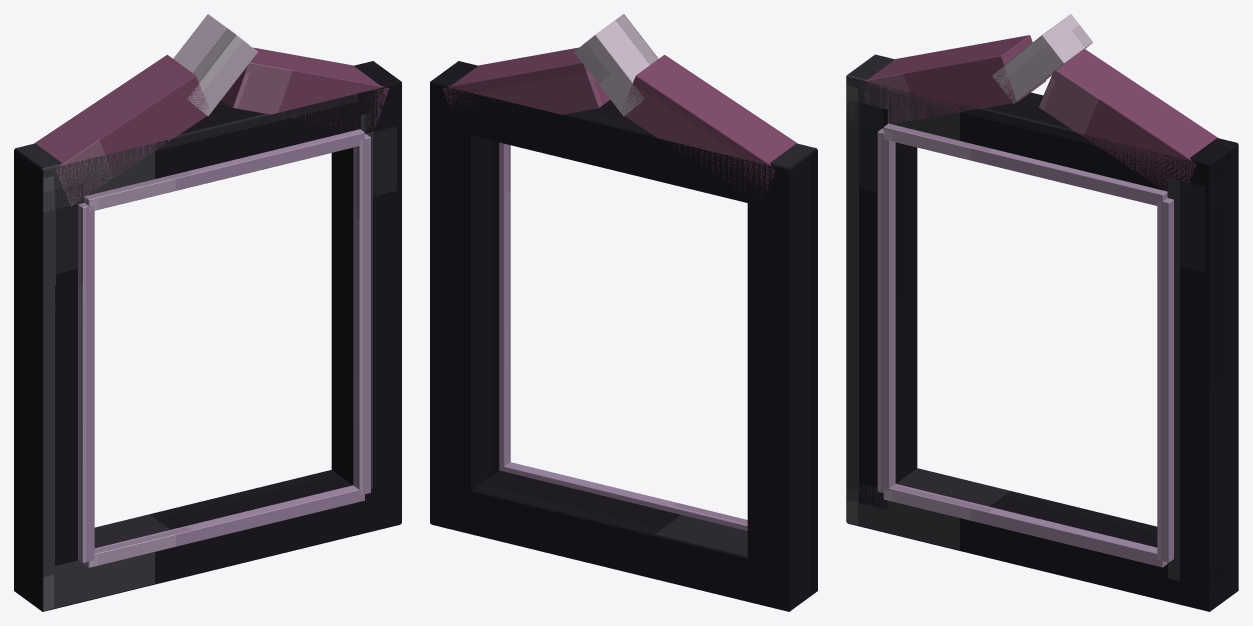
Rendered from gothic_picture_frame_empty.glb.
3 renders of one model, left to right at view 1: azimuth 30°, elevation 25°; view 2: azimuth 150°, elevation 25°; view 3: azimuth 330°, elevation 25°, orthographic.
Visible parts, largest first — view 1: FrameL, FrameBottom, FrameR, FrameTop, GothicShoulderL, GothicShoulderR, InnerTrimR, InnerTrimL, InnerTrimBottom, InnerTrimTop, GothicCrown; view 2: FrameL, FrameR, FrameBottom, FrameTop, GothicShoulderL, GothicShoulderR, GothicCrown, InnerTrimR, InnerTrimBottom; view 3: FrameR, FrameL, FrameBottom, FrameTop, GothicShoulderR, GothicShoulderL, InnerTrimL, InnerTrimR, InnerTrimBottom, InnerTrimTop, GothicCrown.
Part boxes in pixels (left/top/right/bottom): FrameL: left=14, top=173, right=83, bottom=568; FrameBottom: left=14, top=470, right=401, bottom=611; FrameR: left=331, top=114, right=401, bottom=507; FrameTop: left=14, top=61, right=401, bottom=212; GothicShoulderL: left=34, top=55, right=211, bottom=206; GothicShoulderR: left=221, top=47, right=389, bottom=132; InnerTrimR: left=353, top=134, right=370, bottom=495; InnerTrimL: left=78, top=203, right=94, bottom=562; InnerTrimBottom: left=84, top=485, right=364, bottom=567; InnerTrimTop: left=84, top=129, right=364, bottom=211; GothicCrown: left=173, top=14, right=257, bottom=116; FrameL: left=747, top=173, right=817, bottom=570; FrameR: left=430, top=105, right=499, bottom=510; FrameBottom: left=430, top=470, right=817, bottom=611; FrameTop: left=430, top=61, right=817, bottom=212; GothicShoulderL: left=620, top=55, right=797, bottom=206; GothicShoulderR: left=442, top=47, right=610, bottom=114; GothicCrown: left=574, top=14, right=658, bottom=116; InnerTrimR: left=499, top=142, right=510, bottom=466; InnerTrimBottom: left=499, top=462, right=747, bottom=530; FrameR: left=1168, top=168, right=1238, bottom=588; FrameL: left=846, top=99, right=917, bottom=509; FrameBottom: left=846, top=468, right=1238, bottom=611; FrameTop: left=846, top=54, right=1238, bottom=207; GothicShoulderR: left=1038, top=49, right=1217, bottom=198; GothicShoulderL: left=862, top=35, right=1046, bottom=123; InnerTrimL: left=877, top=128, right=895, bottom=493; InnerTrimR: left=1157, top=198, right=1173, bottom=562; InnerTrimBottom: left=883, top=484, right=1167, bottom=567; InnerTrimTop: left=883, top=123, right=1167, bottom=205; GothicCrown: left=992, top=14, right=1092, bottom=103.
Bounding box in the file's own units: 0.795 × 1.12 × 0.1276.
Materials: 1 (1 with a texture image).
